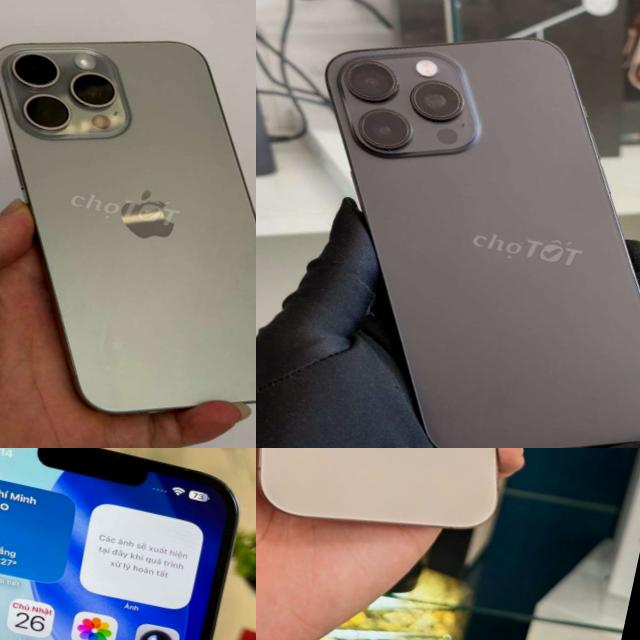gen_12_13: (0, 448, 253, 640)
gen_15: (256, 0, 640, 448), (0, 0, 256, 448)
gen_16: (257, 448, 497, 527)
